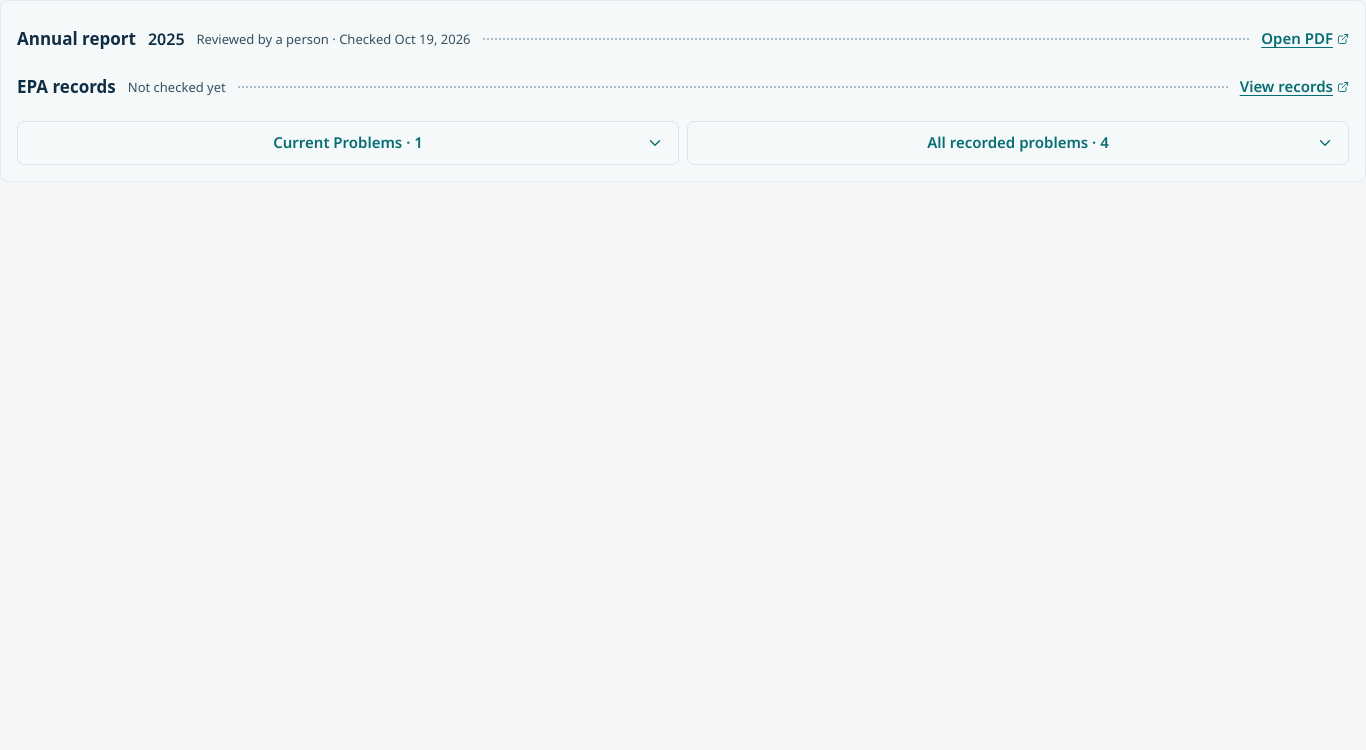
Scenario: past issues expand inline with reported facts and actions, not another view
Expected: the heading "Annual report" is shown, x1=17 y1=27 x2=136 y2=51
Click the button "All recorded problems · 4" at (1018, 143), box x1=687 y1=121 x2=1349 y2=165
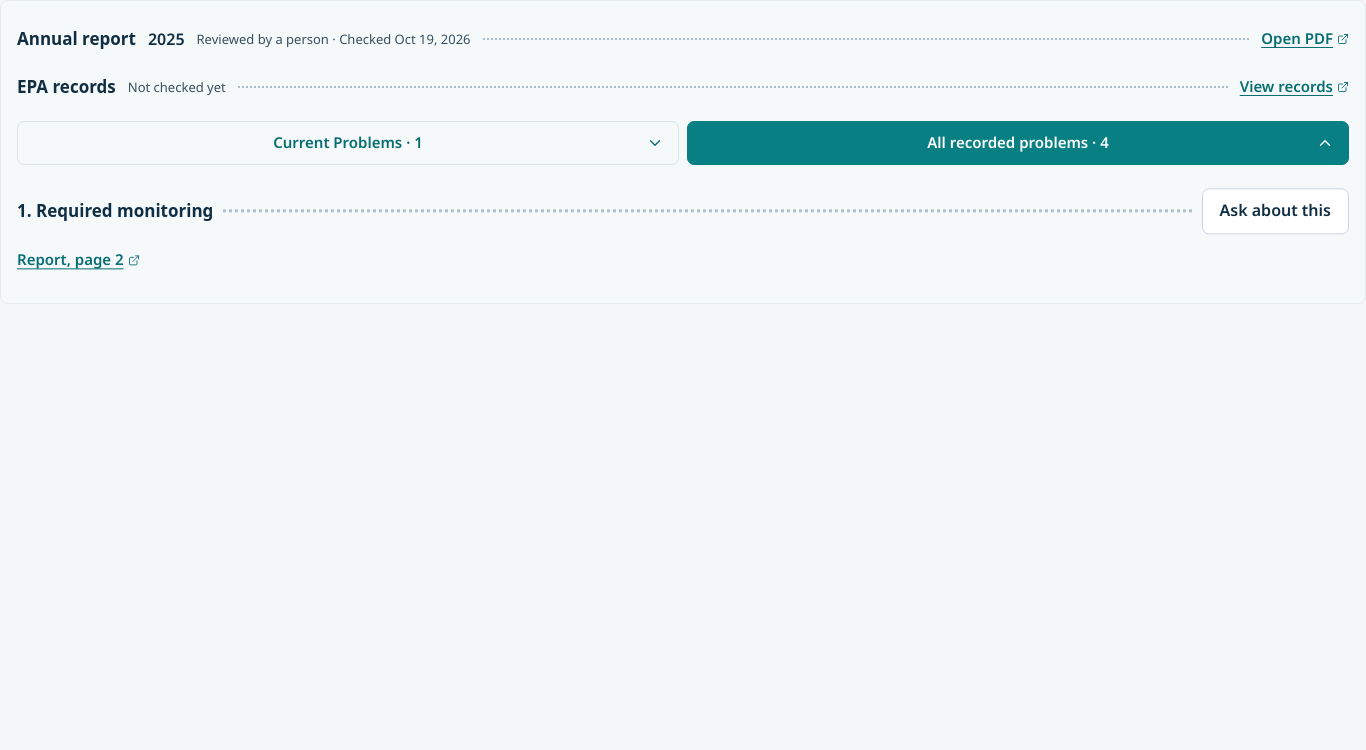
Expected: the button "Ask about this" in the row of "Required monitoring" is shown, x1=1202 y1=201 x2=1349 y2=247
